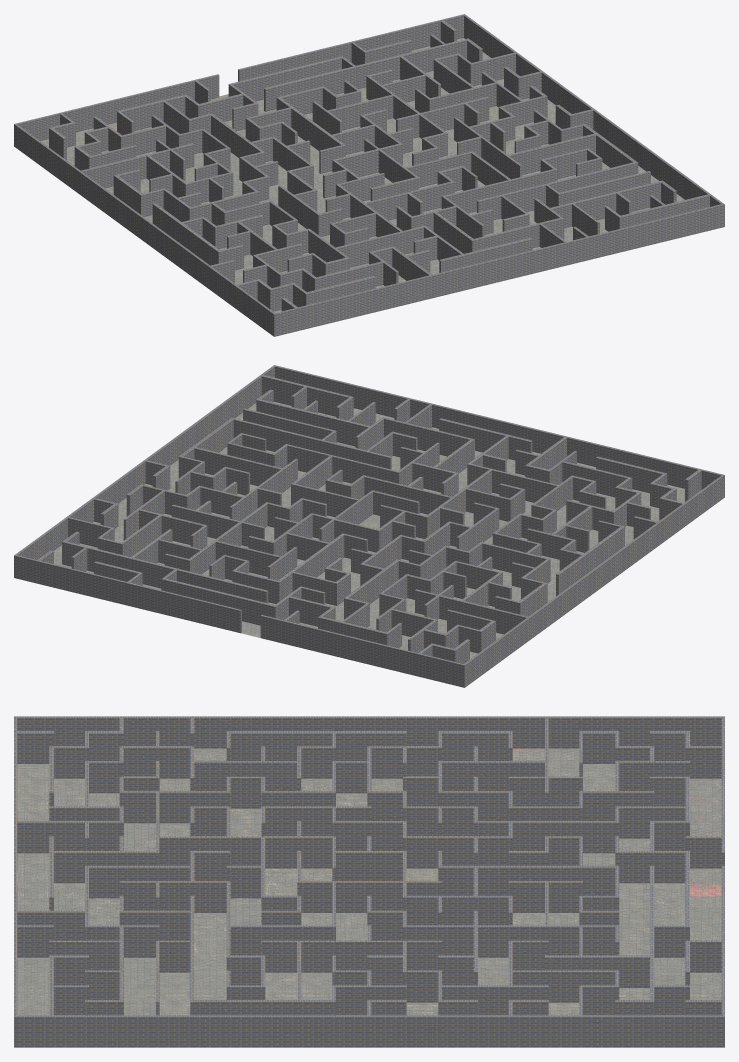
File: Maze.dae
3 renders of one model, top to bottom at view 1: azimuth 30°, elevation 25°; view 2: azimuth 150°, elevation 25°; view 3: azimuth 270°, elevation 25°, orthographic. The views are drawn at different scales.
Visible parts, largest first — view 1: group_6, group_461, group_460, group_574, group_564, group_35, group_453, group_208, group_465, group_31, group_265, group_338 (+55 smaller); view 2: group_6, group_460, group_463, group_574, group_459, group_564, group_501, group_365, group_7, group_315, group_85, group_194 (+55 smaller); view 3: group_6, group_574, group_462, group_609, group_386, group_606, group_444, group_167, group_20, group_330, group_532, group_70 (+110 smaller).
Boxes of the visible parts, box(x1,y1,x2,y2) form: group_6: box(14, 14, 724, 314); group_461: box(274, 204, 724, 336); group_460: box(14, 124, 274, 336); group_574: box(41, 38, 684, 312); group_564: box(593, 110, 707, 199); group_35: box(265, 56, 399, 111); group_453: box(63, 81, 194, 132); group_208: box(445, 169, 557, 213); group_465: box(239, 43, 351, 81); group_31: box(233, 58, 341, 101); group_265: box(337, 227, 423, 267); group_338: box(152, 204, 218, 265); group_6: box(14, 365, 724, 665); group_460: box(464, 475, 724, 687); group_463: box(14, 555, 240, 633); group_574: box(54, 401, 684, 659); group_459: box(260, 616, 464, 687); group_564: box(147, 376, 261, 465); group_501: box(233, 419, 390, 468); group_365: box(567, 437, 697, 488); group_7: box(275, 366, 407, 417); group_315: box(432, 405, 563, 453); group_85: box(161, 579, 275, 625); group_194: box(256, 400, 367, 446); group_6: box(14, 716, 724, 1016); group_574: box(17, 748, 721, 1015); group_462: box(14, 1017, 724, 1047); group_609: box(17, 749, 721, 1015); group_386: box(194, 718, 544, 748); group_606: box(17, 794, 719, 1015); group_444: box(548, 718, 721, 748); group_167: box(478, 867, 615, 895); group_20: box(512, 822, 619, 853); group_330: box(194, 762, 297, 790); group_532: box(301, 942, 402, 972); group_70: box(478, 927, 579, 957).
Size of the model in its own units: 827 by 827 by 39.37.
Materials: 6 (6 with a texture image).
